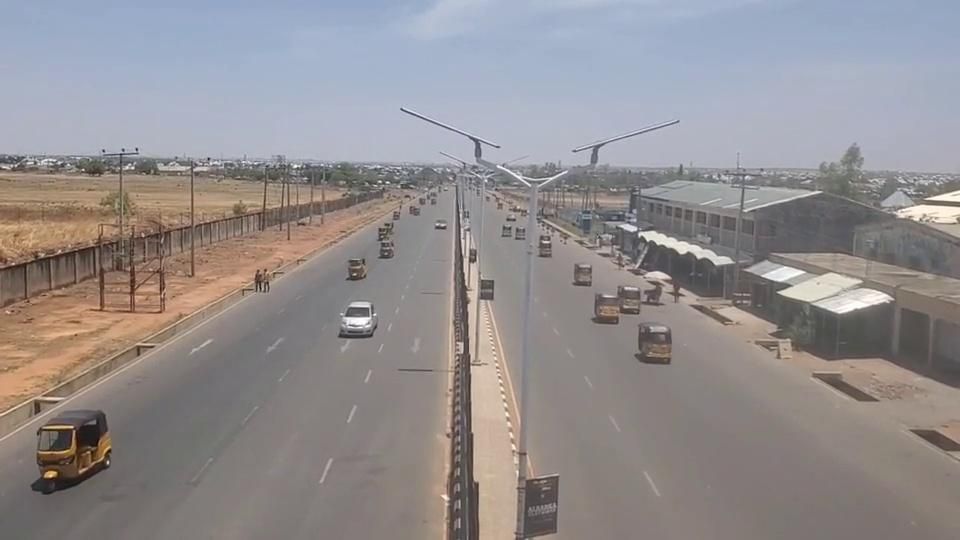car: (338, 300, 377, 337)
keke: (35, 408, 112, 482), (638, 323, 673, 364), (593, 292, 621, 323), (573, 262, 593, 285), (347, 258, 367, 279)
